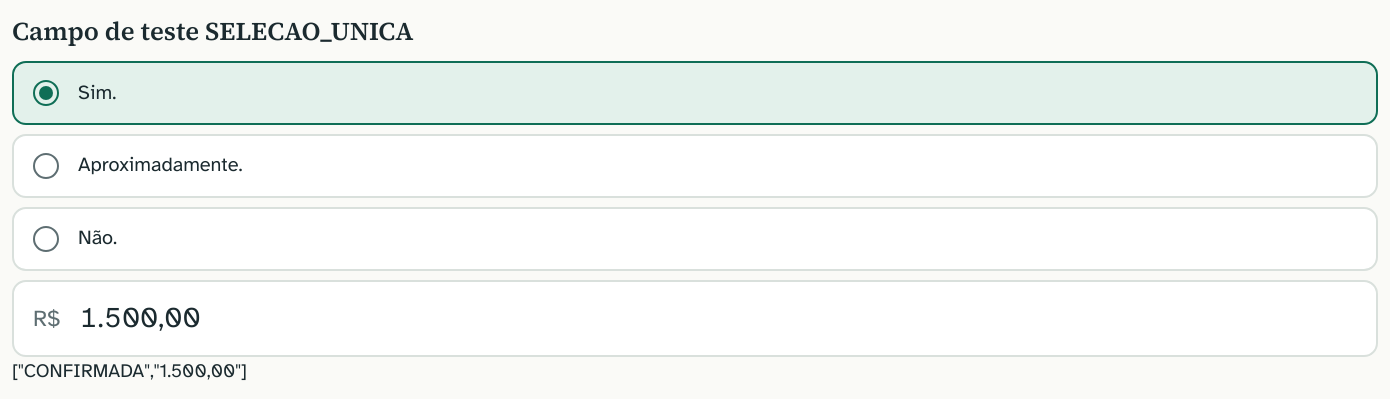
Test: T-294: opção que abre campo R$ em outra variável › trocar para "Aproximadamente." mantém o valor digitado
Click the radio button labelled "Aproximadamente." at (160, 165), box x1=12 y1=134 x2=1378 y2=198
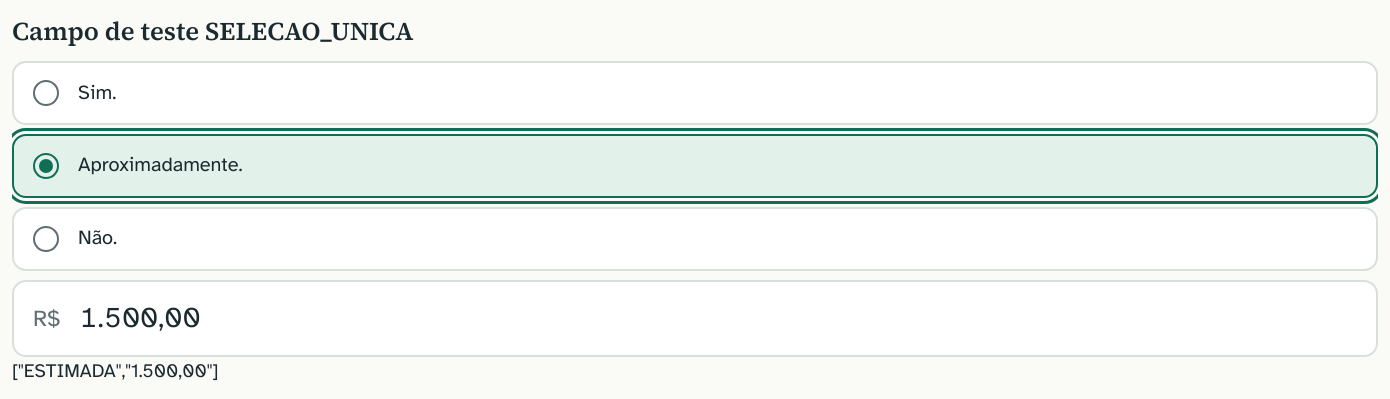
Check: the text with test id "valor" reads "[\"ESTIMADA\",\"1.500,00\"]", box x1=12 y1=359 x2=218 y2=383
